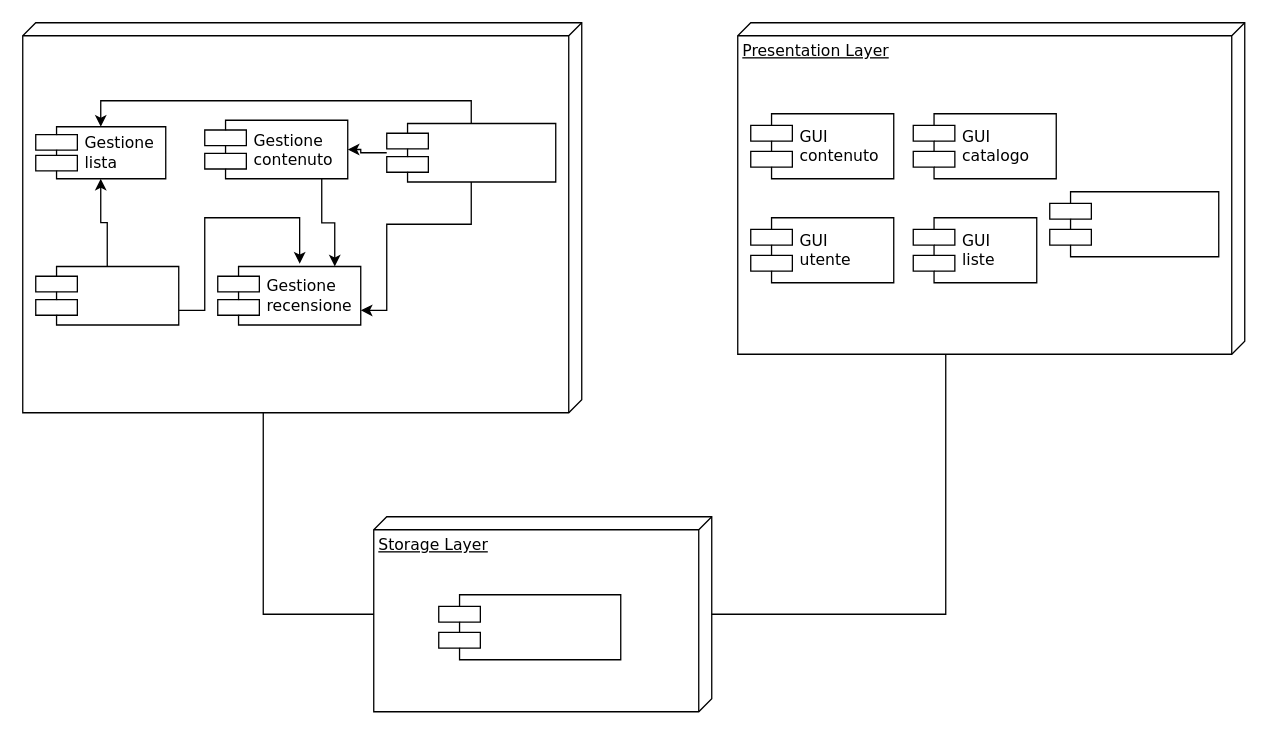
This 1268x735 diagram has some shape labels left out. The shapes that lost their labels are listed below. From the top down, each one's box as (x1, y1, x2, y2) in pixels, then its label:
(385, 122, 556, 182): Gestione amministratore
(21, 21, 582, 413): Application Layer
(1048, 190, 1219, 257): GUI ammnistratore
(34, 265, 179, 325): Gestione utente
(437, 593, 621, 660): Dati Persistenti
